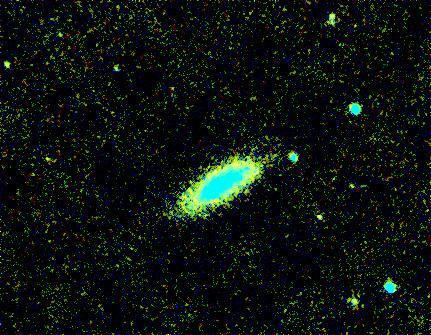star: (302, 199, 332, 229)
